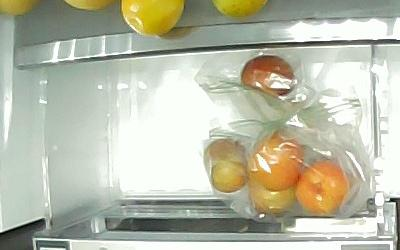prune_vinyl: (247, 128, 303, 191), (294, 158, 350, 216), (202, 136, 250, 193), (239, 54, 296, 98), (246, 174, 297, 216)
